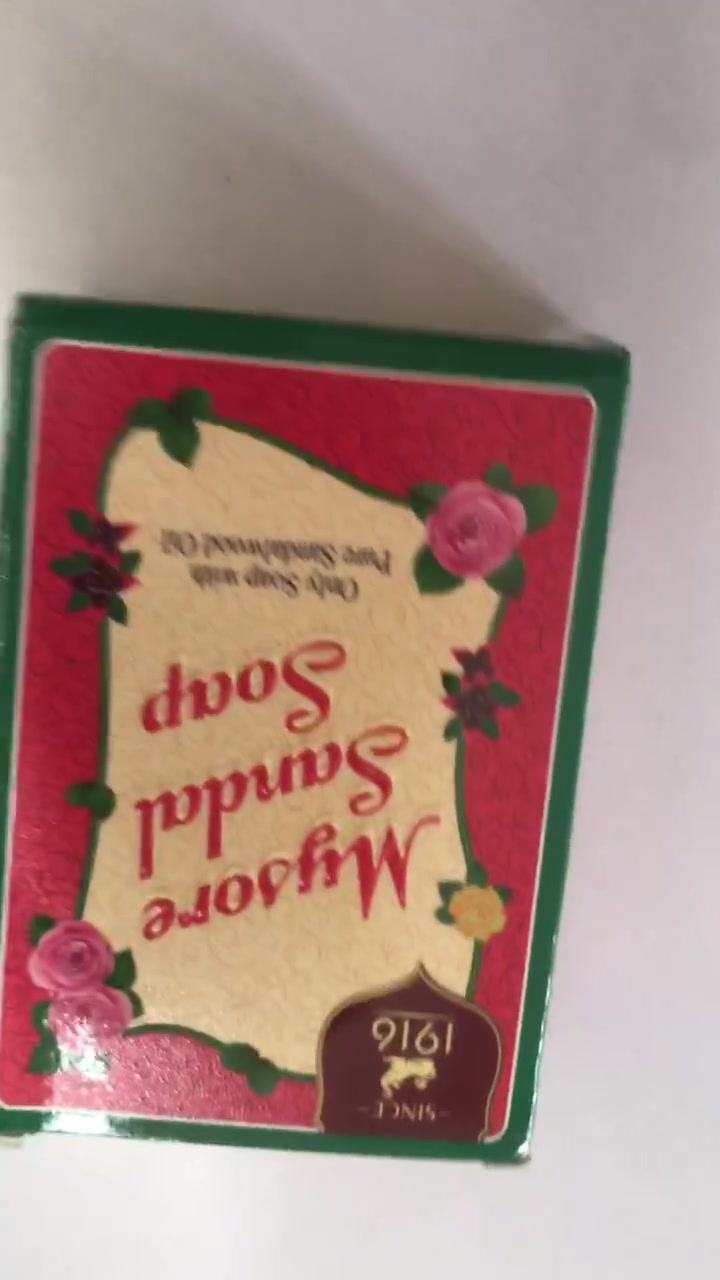mysore sandal soap: (3, 288, 637, 1173)
